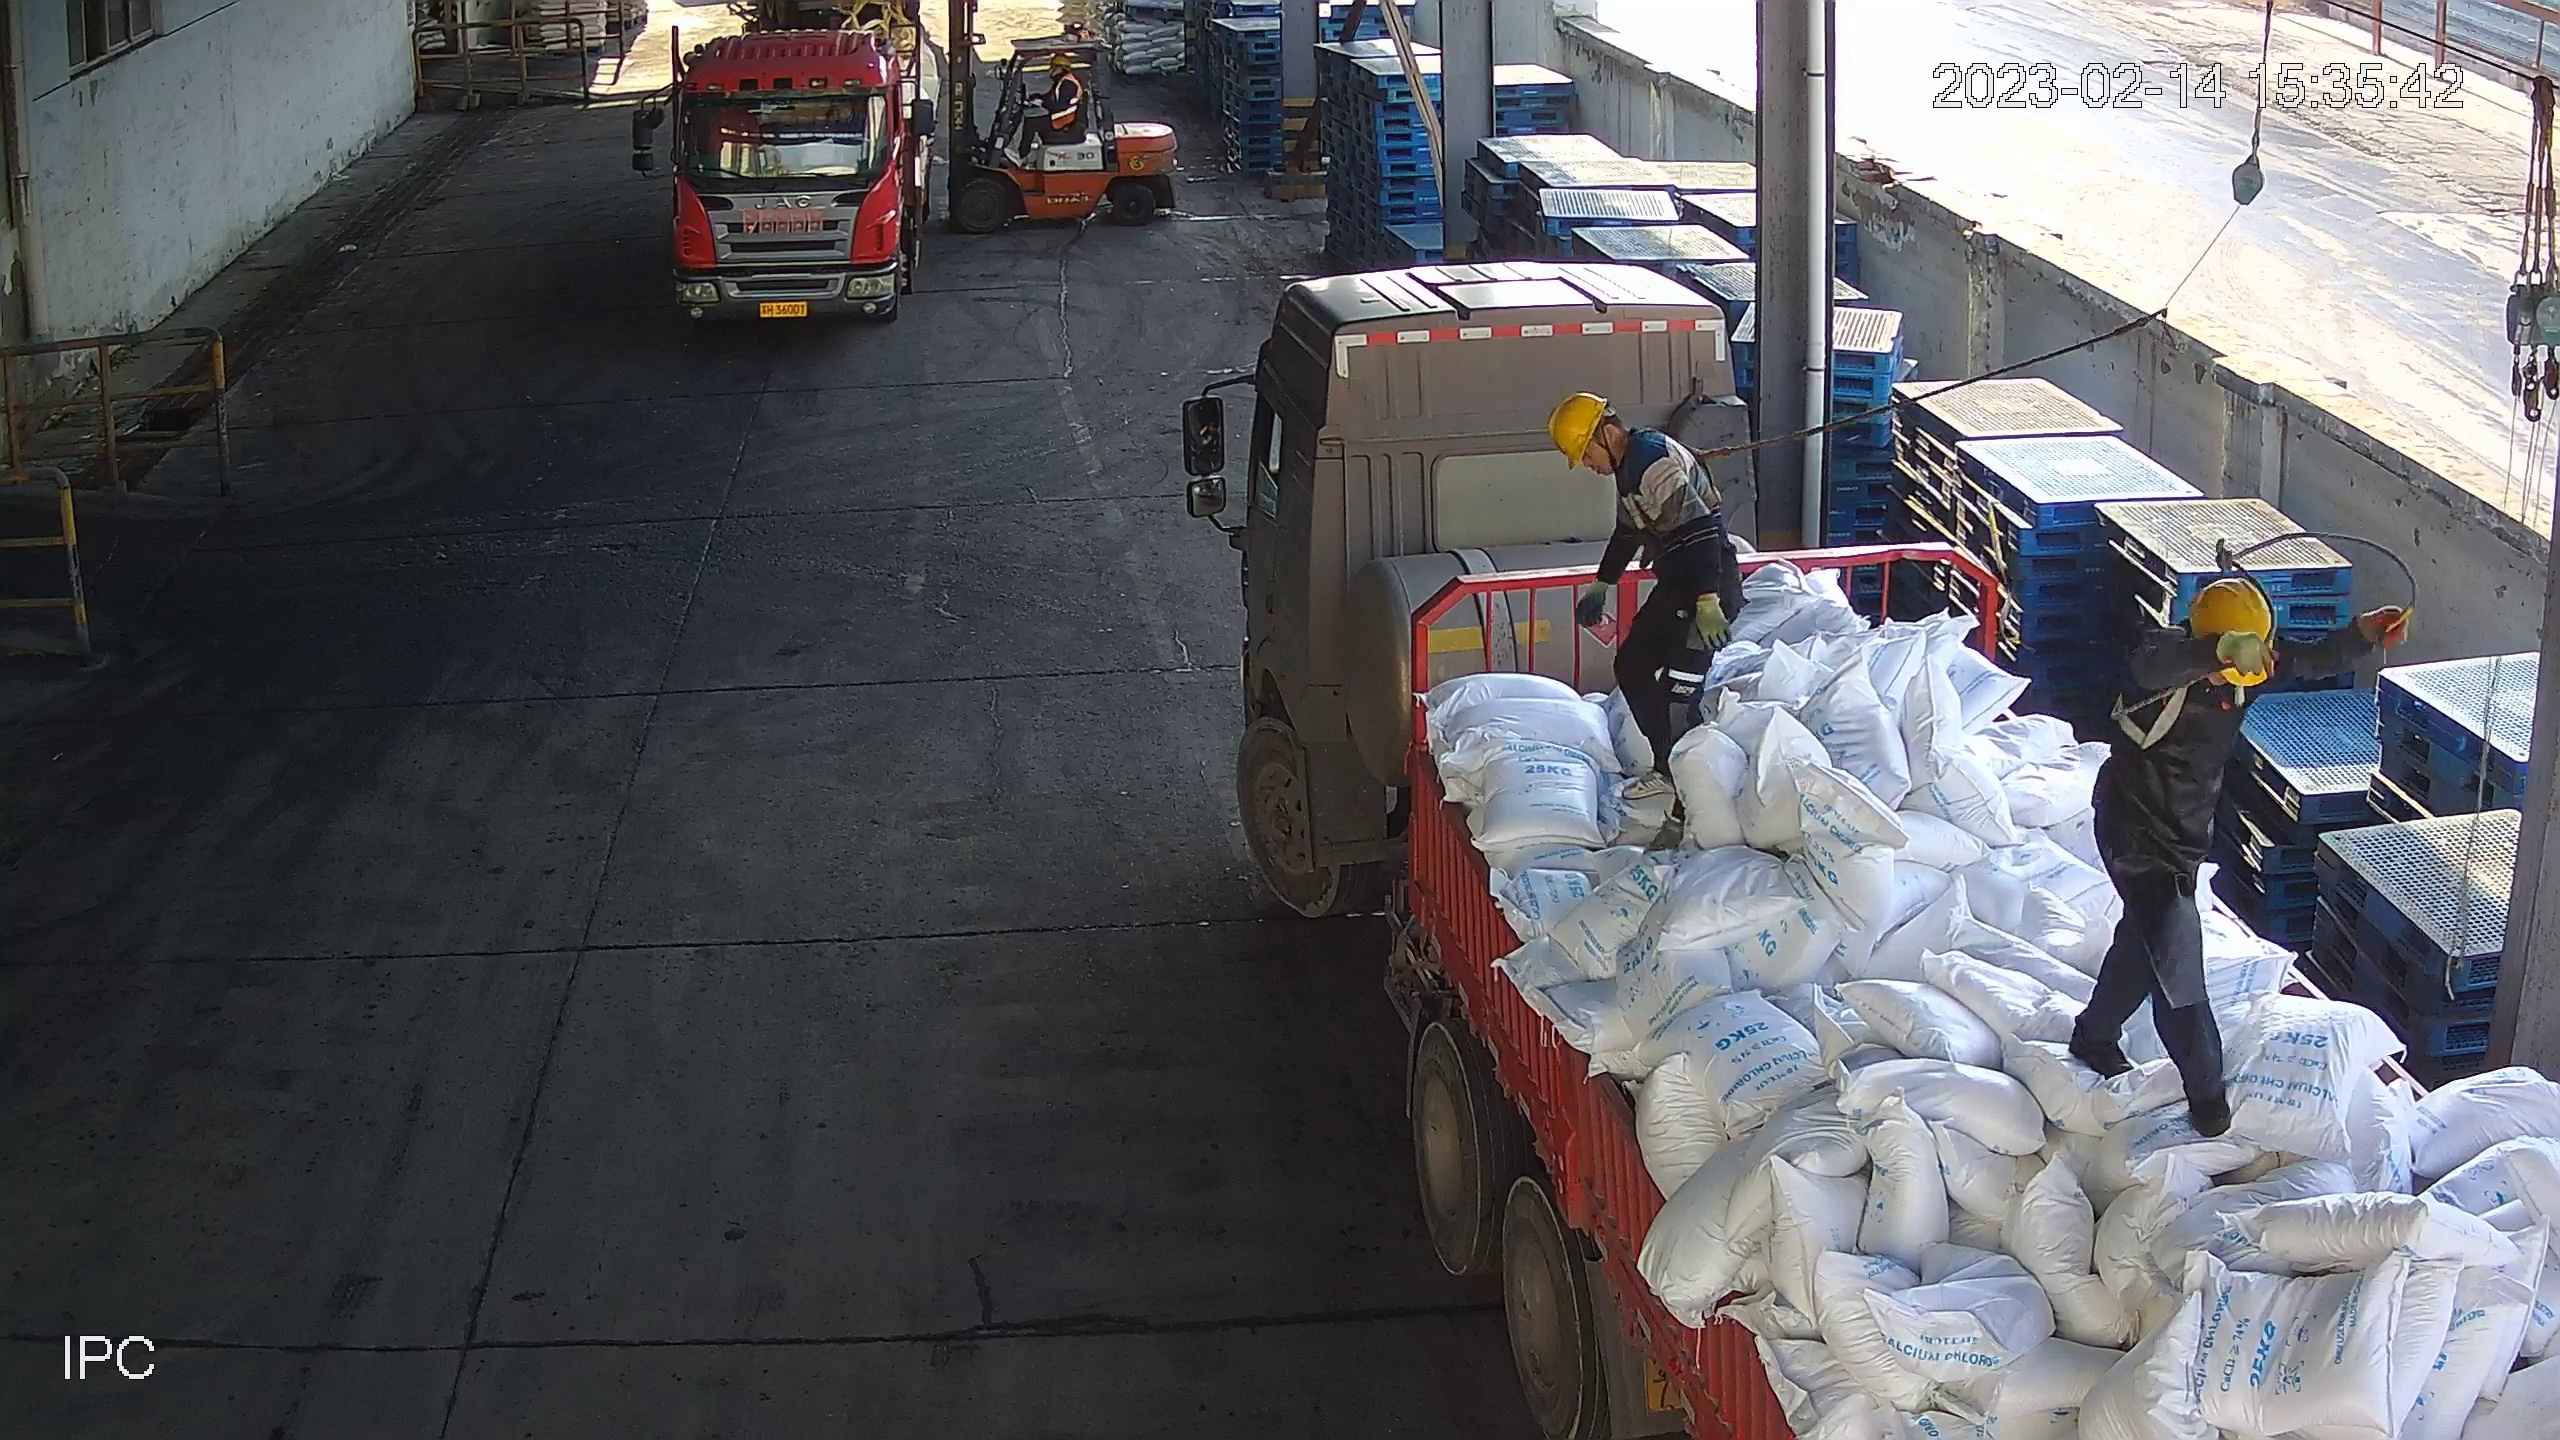belt: (2115, 671, 2261, 750)
head: (2129, 576, 2296, 764), (1549, 393, 1700, 523), (1039, 53, 1087, 111)
helmet: (2190, 578, 2274, 686), (1547, 396, 1613, 467), (1050, 52, 1072, 68)
people: (2067, 574, 2406, 1140), (1547, 393, 1745, 822), (1010, 52, 1094, 169)
truck: (1169, 262, 2560, 1440), (616, 1, 942, 318)
